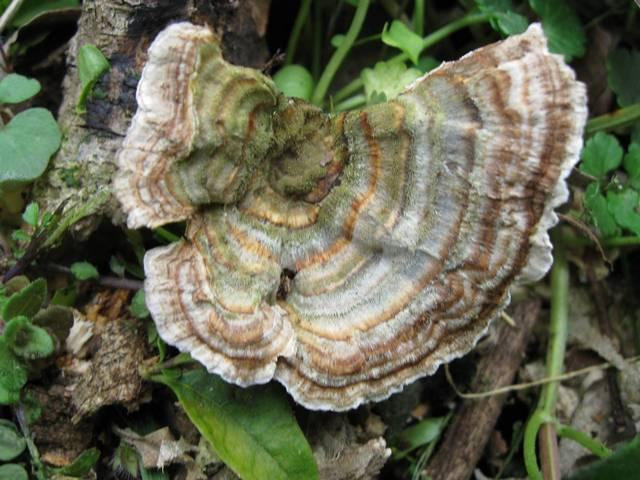Non-edible Mushroom: (110, 17, 589, 414)
